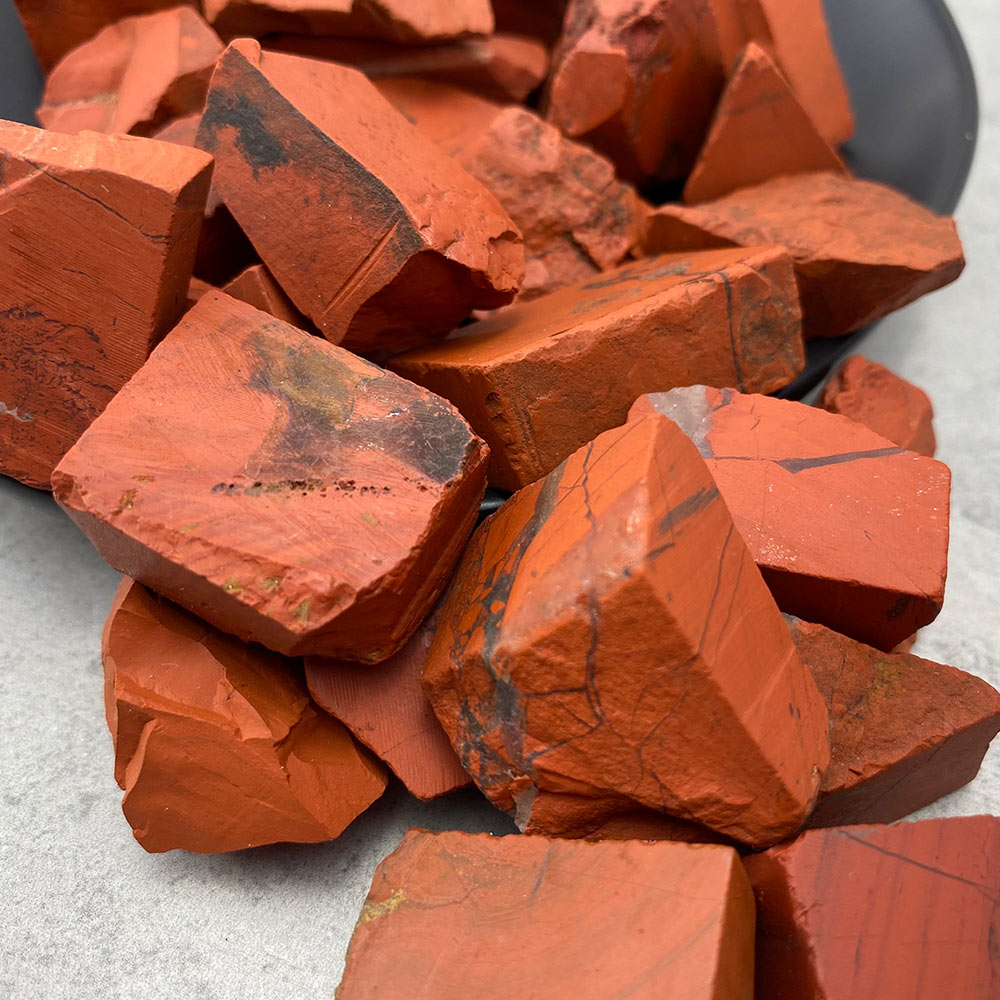Red_Jasper: (45, 1, 975, 816), (356, 812, 993, 1000)
